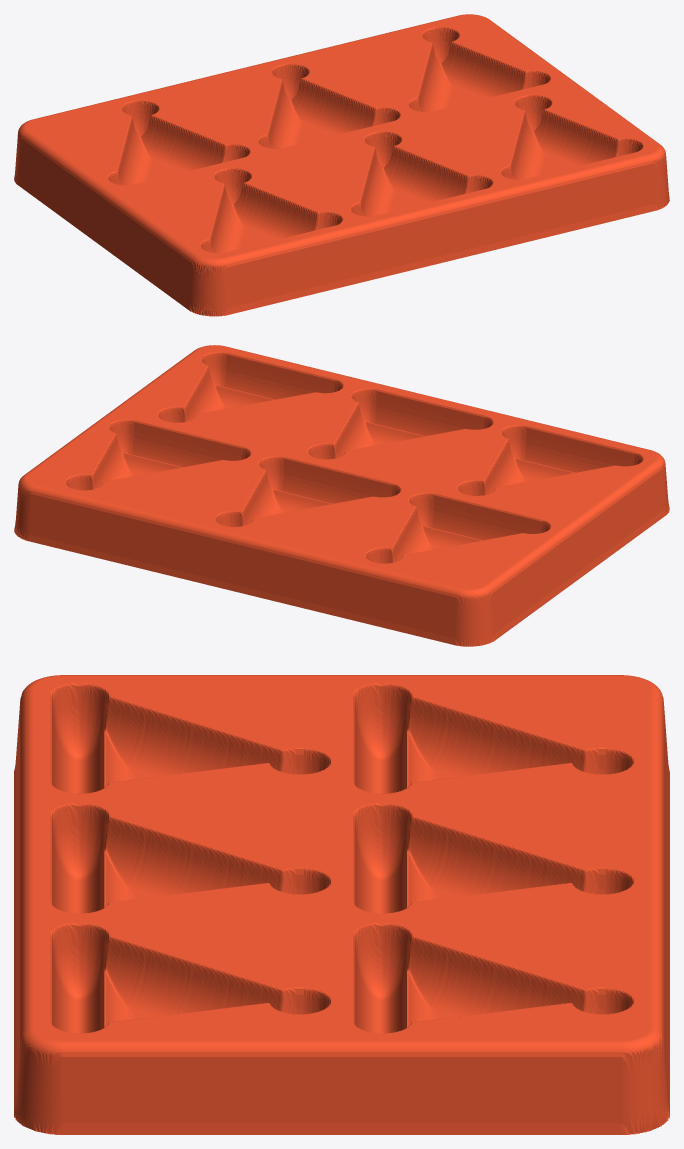
The model's file is mold.glb.
3 views of the same model, one above another, from view 1: azimuth 30°, elevation 25°; view 2: azimuth 150°, elevation 25°; view 3: azimuth 270°, elevation 25° (orthographic). The views are drawn at different scales.
Visible parts, largest first — view 1: geometry_0; view 2: geometry_0; view 3: geometry_0.
Boxes of the visible parts, <box> form: geometry_0: <box>14,14,669,316</box>; geometry_0: <box>14,345,669,646</box>; geometry_0: <box>14,675,669,1134</box>.
Bounding box in the file's own units: 0.1665 × 0.0175 × 0.1211.
